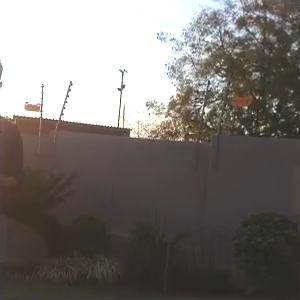follow: (0, 52, 26, 298)
